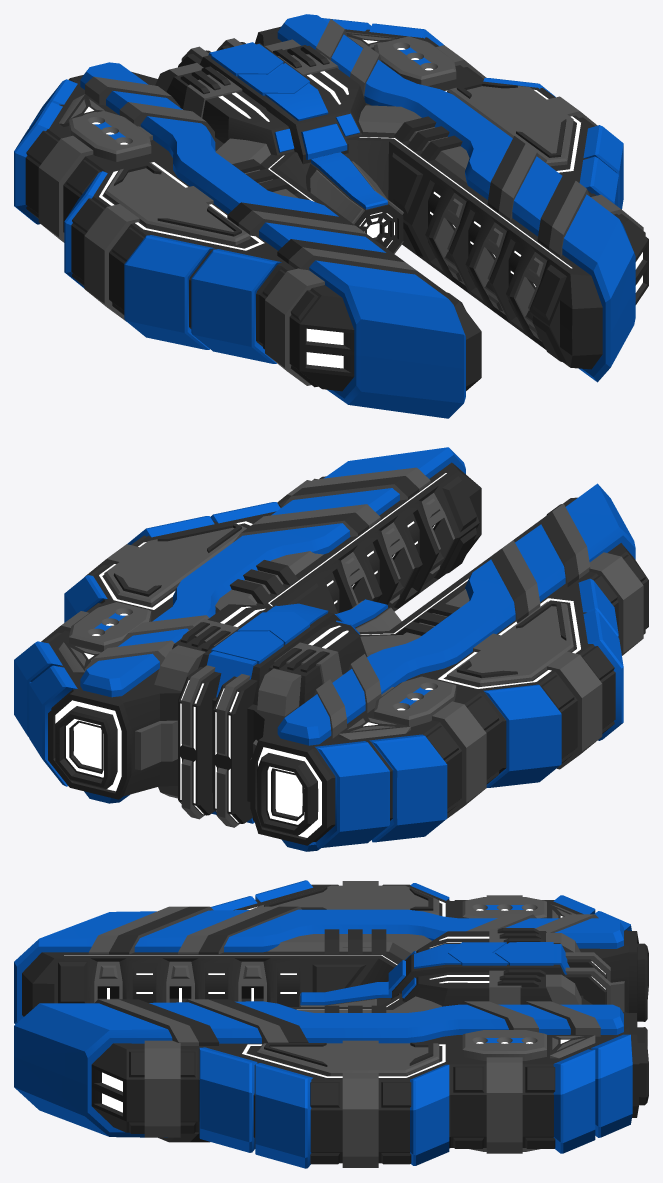
The model's file is 01_ship_capital_ekudon.glb.
3 renders of one model, top to bottom at view 1: azimuth 30°, elevation 25°; view 2: azimuth 150°, elevation 25°; view 3: azimuth 270°, elevation 25°, orthographic. The views are drawn at different scales.
Visible parts, largest first — view 1: 01_ship_capital_ekudon; view 2: 01_ship_capital_ekudon; view 3: 01_ship_capital_ekudon.
Part boxes in pixels (x1,y1,x2,y2): 01_ship_capital_ekudon: (14, 14, 648, 418); 01_ship_capital_ekudon: (14, 447, 648, 851); 01_ship_capital_ekudon: (14, 880, 648, 1168).
Bounding box in the file's own units: 0.8369 × 0.2584 × 1.03.
